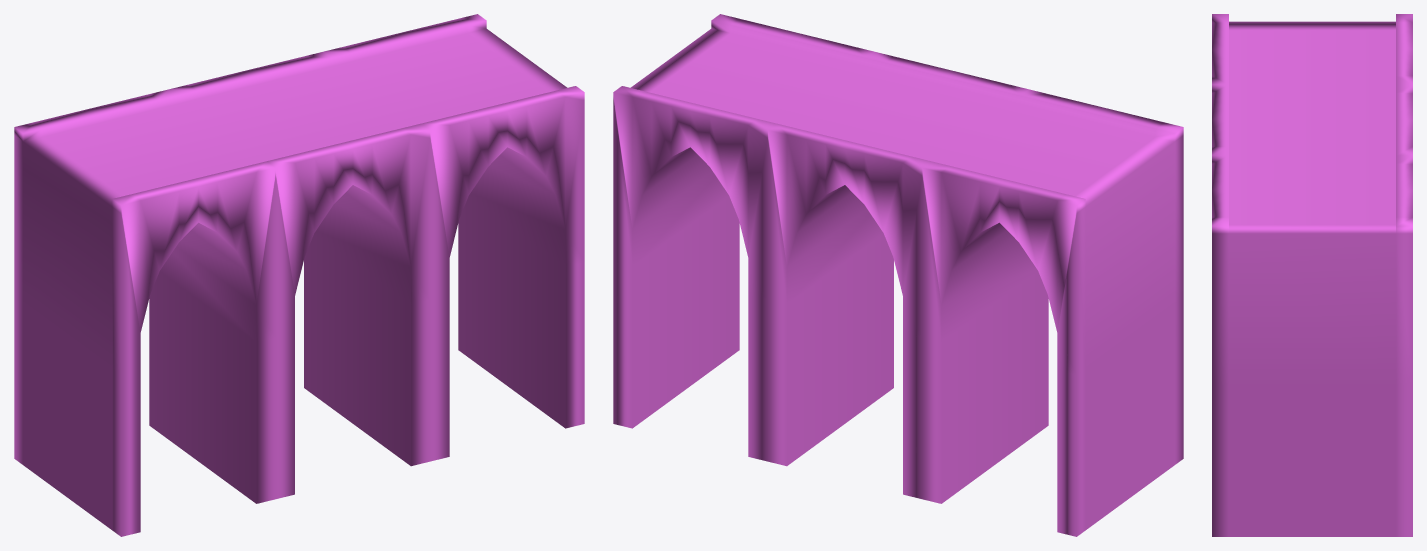
The model's file is RD_Arch_x3_Tall.fbx.
3 renders of one model, left to right at view 1: azimuth 30°, elevation 25°; view 2: azimuth 150°, elevation 25°; view 3: azimuth 270°, elevation 25°, orthographic. The views are drawn at different scales.
Visible parts, largest first — view 1: Mesh; view 2: Mesh; view 3: Mesh.
Part boxes in pixels (left/top/right/bottom): Mesh: left=14, top=14, right=584, bottom=536; Mesh: left=613, top=14, right=1183, bottom=536; Mesh: left=1212, top=14, right=1412, bottom=536.
Bounding box in the file's own units: 1200 × 820 × 480.
